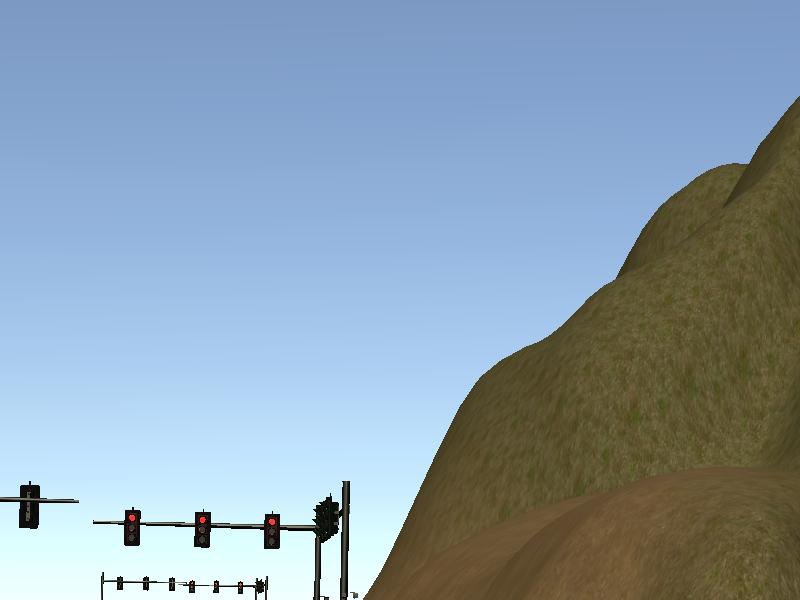red_light: (124, 510, 140, 547), (264, 514, 280, 548), (198, 511, 210, 547)
